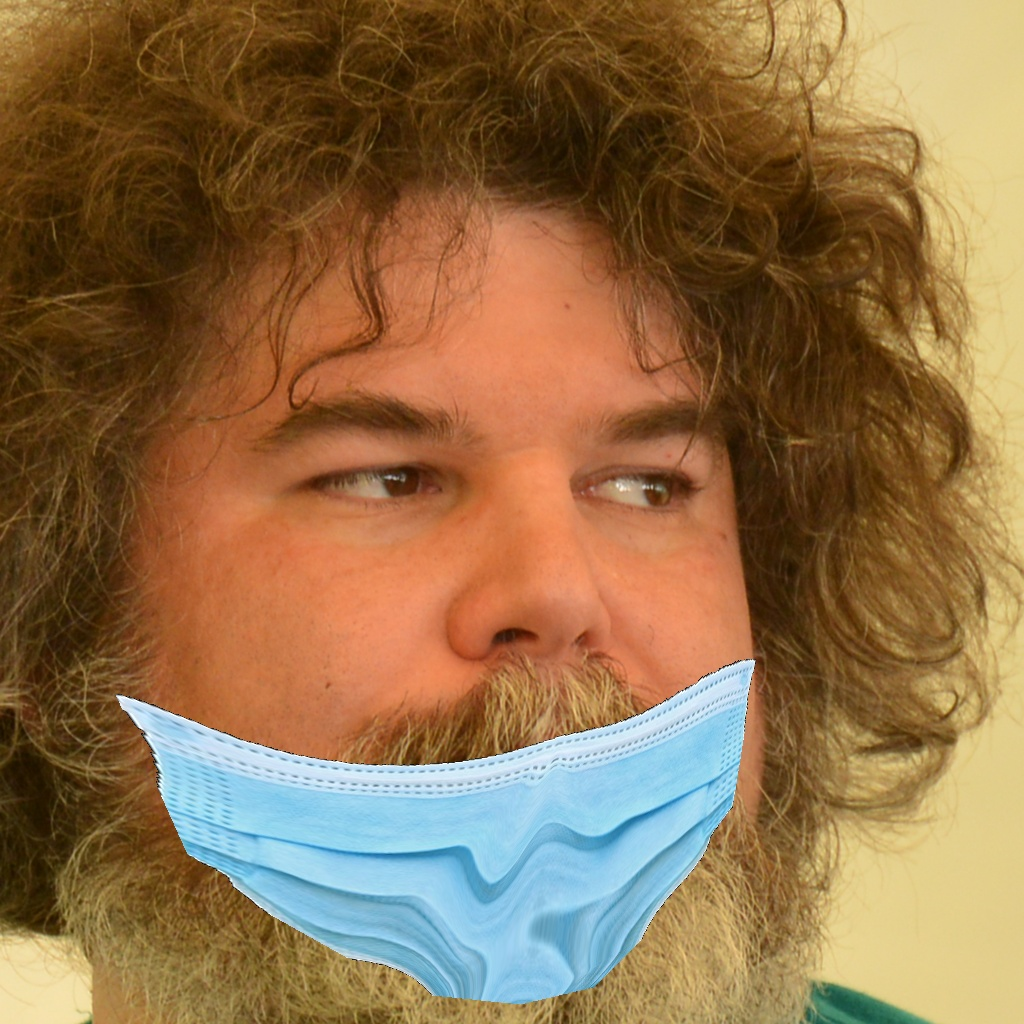mascarilla_mal_puesta: (97, 418, 819, 990)
